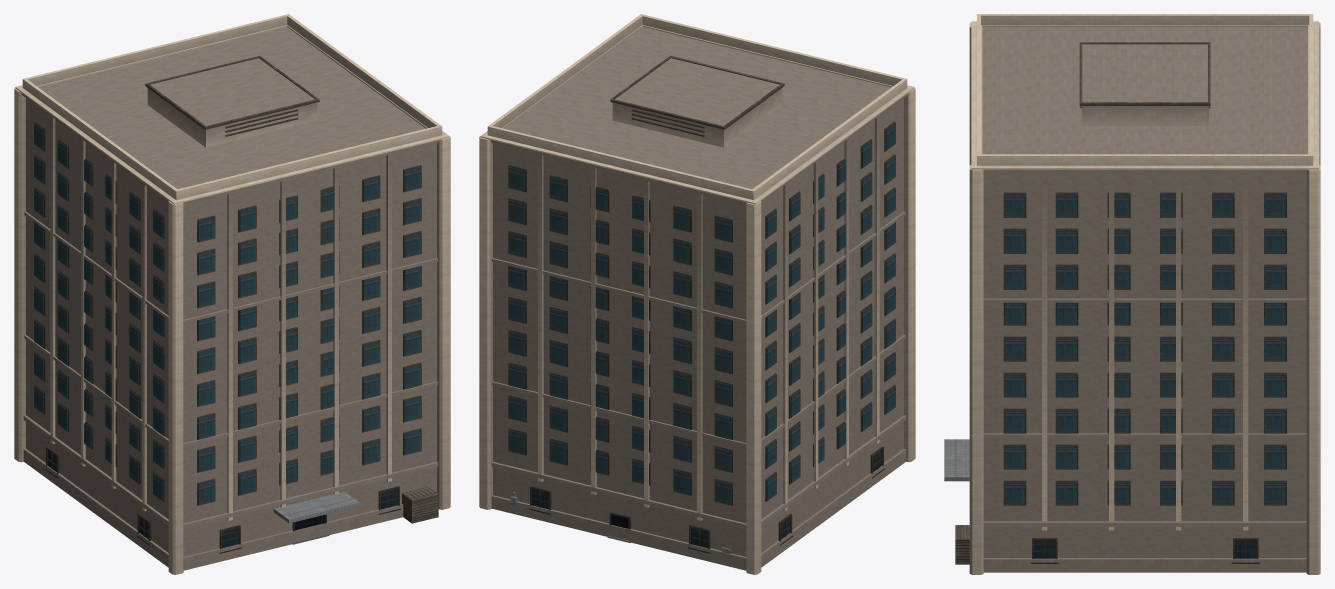
File: corner-office_lod0.gltf
The picture shows the model from 3 angles, left to right: view 1: azimuth 30°, elevation 25°; view 2: azimuth 150°, elevation 25°; view 3: azimuth 270°, elevation 25°; orthographic projection. The views are drawn at different scales.
Parts seen in each view (by area): view 1: corner-office_main, corner-office__v4_stone_detail, corner-office_fen_07-glass-curtain-blue_1, corner-office_fen_12-bronze-metal_0, corner-office__v4_metal_detail, corner-office__canopy, corner-office__newsstand; view 2: corner-office_main, corner-office__v4_stone_detail, corner-office_fen_07-glass-curtain-blue_1, corner-office_fen_12-bronze-metal_0, corner-office__v4_metal_detail; view 3: corner-office_main, corner-office__v4_stone_detail, corner-office_fen_07-glass-curtain-blue_1, corner-office_fen_12-bronze-metal_0, corner-office__v4_metal_detail, corner-office__canopy, corner-office__newsstand.
Part boxes in pixels (bbox=[...]): corner-office_main: bbox=[26, 27, 436, 556]; corner-office__v4_stone_detail: bbox=[14, 14, 450, 574]; corner-office_fen_07-glass-curtain-blue_1: bbox=[34, 123, 420, 548]; corner-office_fen_12-bronze-metal_0: bbox=[34, 121, 421, 553]; corner-office__v4_metal_detail: bbox=[145, 55, 319, 136]; corner-office__canopy: bbox=[273, 491, 359, 523]; corner-office__newsstand: bbox=[402, 486, 438, 523]; corner-office_main: bbox=[493, 27, 903, 556]; corner-office__v4_stone_detail: bbox=[479, 14, 915, 574]; corner-office_fen_07-glass-curtain-blue_1: bbox=[509, 123, 895, 548]; corner-office_fen_12-bronze-metal_0: bbox=[508, 121, 895, 553]; corner-office__v4_metal_detail: bbox=[610, 55, 784, 136]; corner-office_main: bbox=[982, 27, 1307, 557]; corner-office__v4_stone_detail: bbox=[969, 14, 1320, 574]; corner-office_fen_07-glass-curtain-blue_1: bbox=[1005, 194, 1285, 558]; corner-office_fen_12-bronze-metal_0: bbox=[1003, 192, 1286, 563]; corner-office__v4_metal_detail: bbox=[1079, 42, 1210, 108]; corner-office__canopy: bbox=[944, 439, 969, 481]; corner-office__newsstand: bbox=[955, 525, 969, 564].
Bounding box in the file's own units: 31.44 × 42.32 × 33.72.
